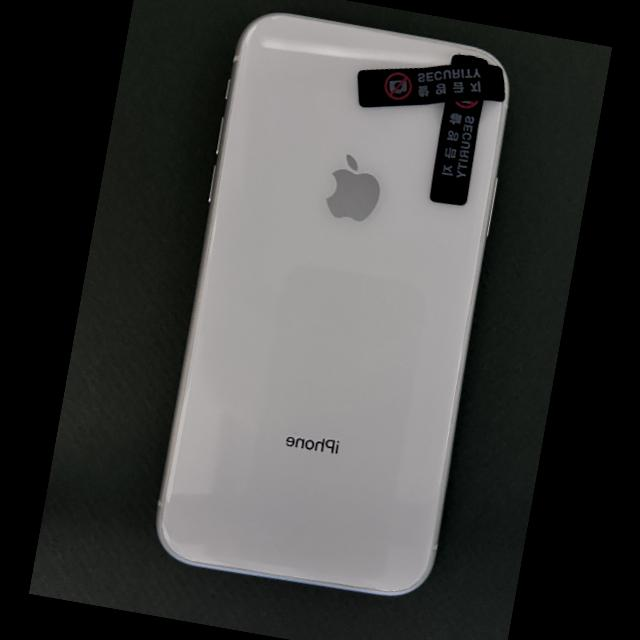phone: (156, 12, 510, 597)
sticker: (356, 62, 504, 107), (429, 101, 482, 206)
